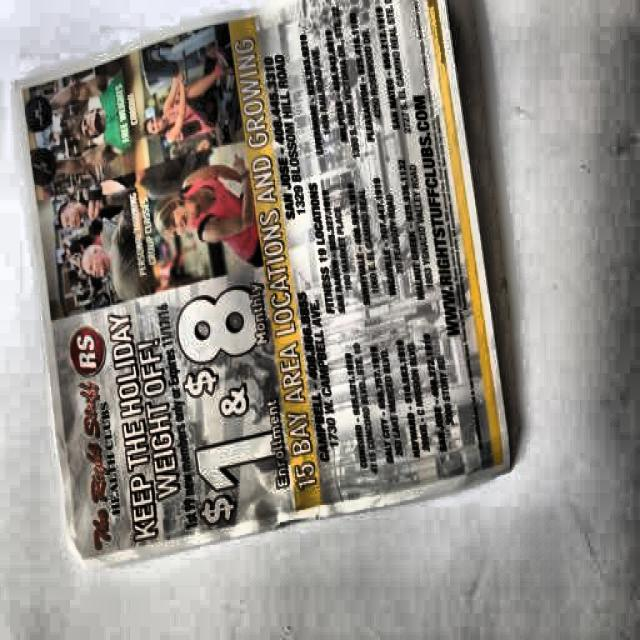paper: (16, 0, 508, 563)
